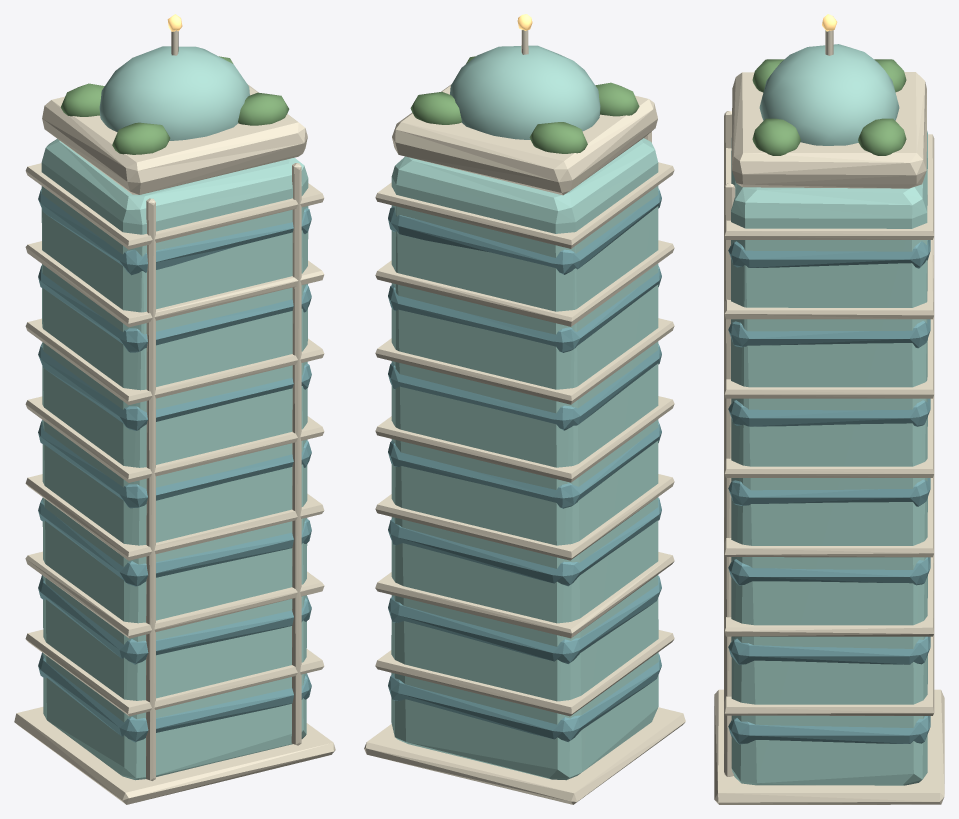
The model's file is tower-lod1.glb.
3 renders of one model, left to right at view 1: azimuth 30°, elevation 25°; view 2: azimuth 150°, elevation 25°; view 3: azimuth 270°, elevation 25°, orthographic.
Visible parts, largest first — view 1: tower-lod1; view 2: tower-lod1; view 3: tower-lod1.
Part boxes in pixels (left/top/right/bottom): tower-lod1: left=14, top=14, right=335, bottom=804; tower-lod1: left=364, top=14, right=685, bottom=804; tower-lod1: left=714, top=14, right=944, bottom=804.
Size of the model in its own units: 7.18 by 23.3 by 6.58.
